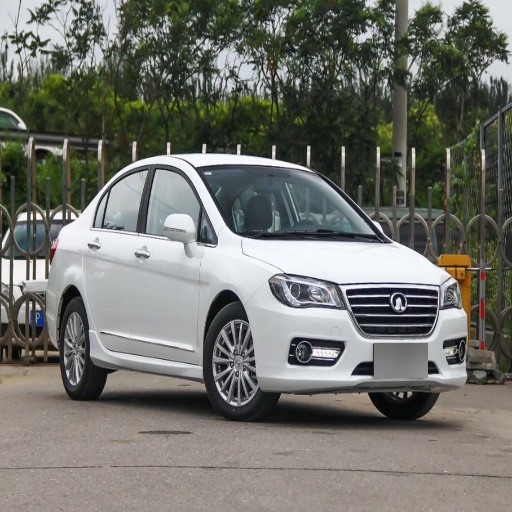front_bumper: (250, 283, 467, 391)
front_right_door: (135, 163, 210, 362)
front_right_light: (269, 272, 340, 306)
